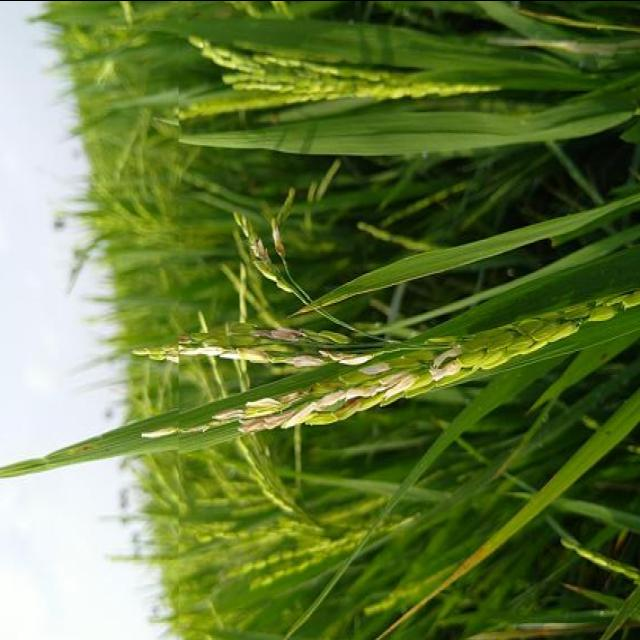Panicle Blight: (136, 328, 463, 436), (235, 213, 297, 291)
